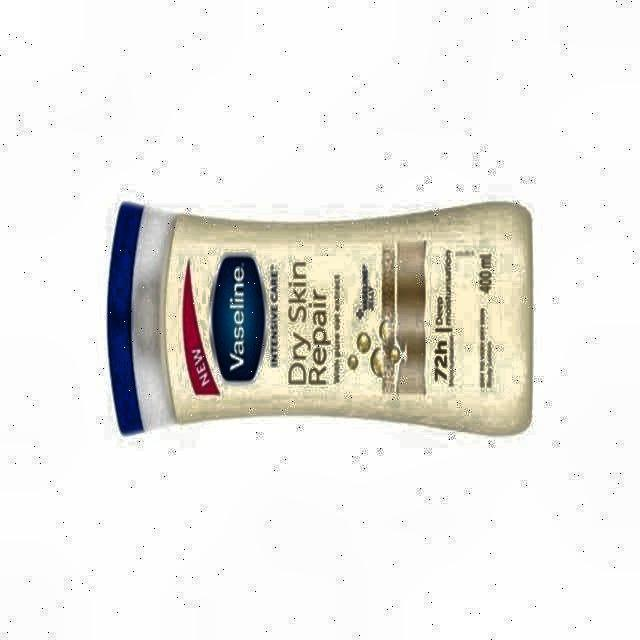plastic: (108, 202, 531, 434)
